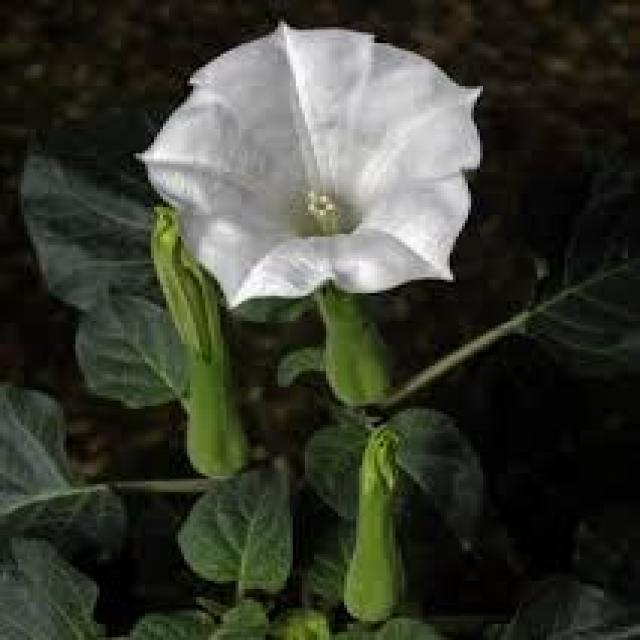organic waste: (157, 28, 498, 305)
